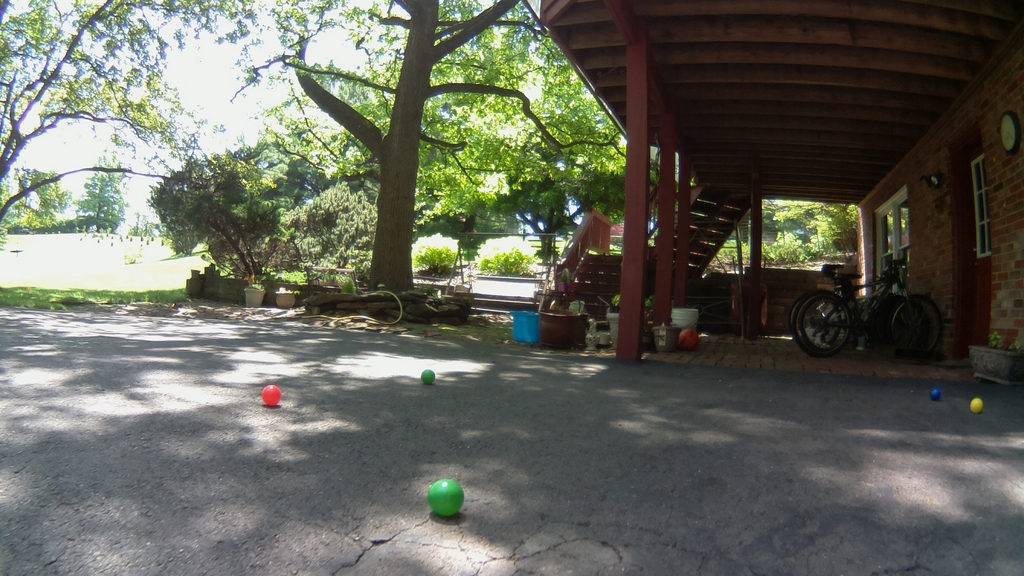ball: (421, 370, 435, 385)
